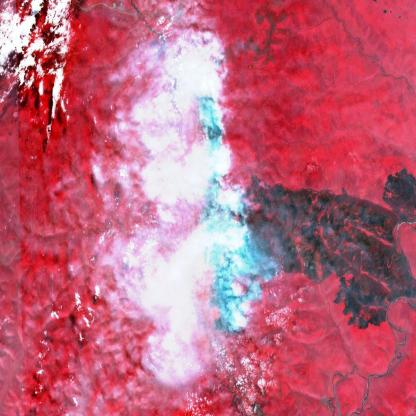fire: (198, 92, 277, 340)
